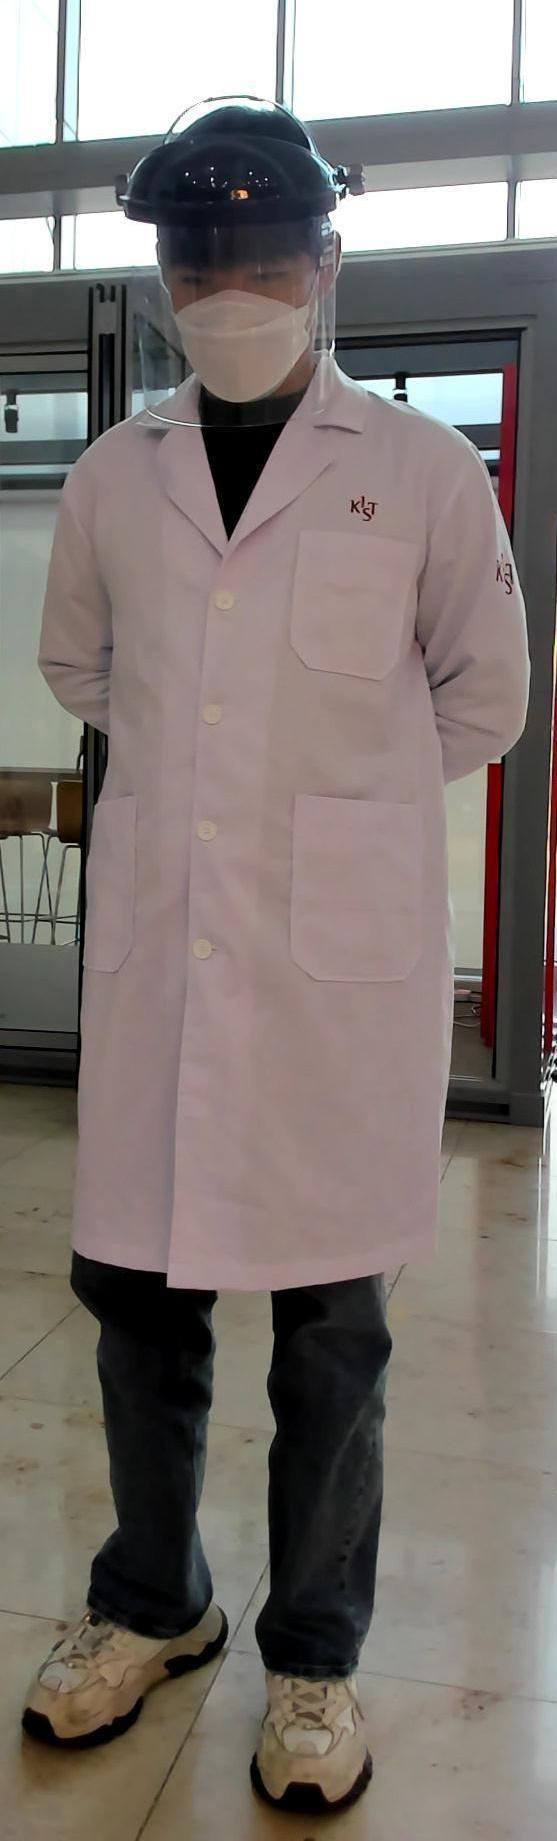lab_coat: (46, 451, 536, 1294)
